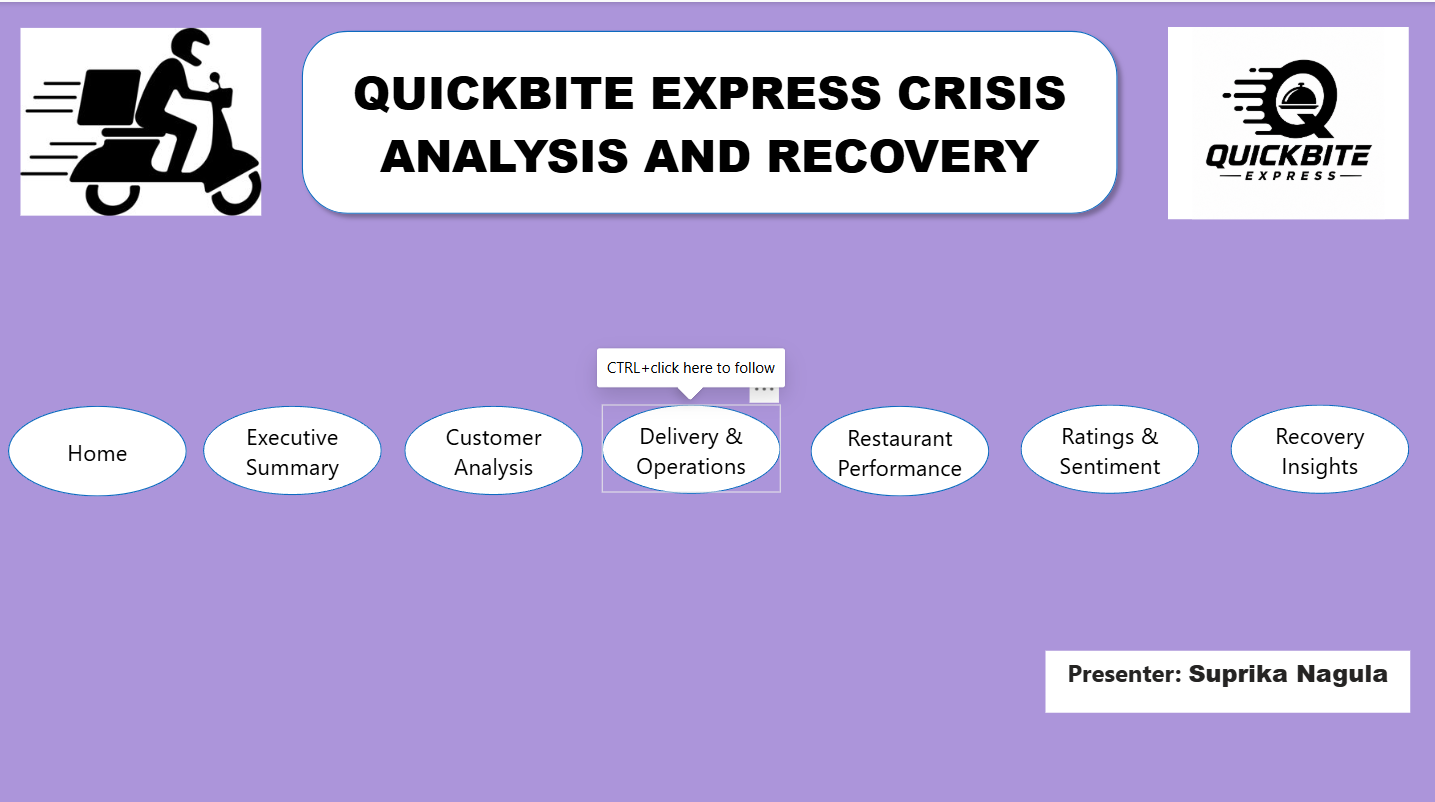

The dashboard page shown, as its layout file describes it:
{"tool":"powerbi","page":{"name":"Home","canvas":[1280,720],"ordinal":0},"visuals":[{"type":"shape","box":[261.8,16.9,744.4,181],"z":0},{"type":"shape","box":[8.4,359.5,159.3,80.8],"z":1000},{"type":"shape","box":[182.2,359.5,159.3,79.6],"z":2000},{"type":"shape","box":[361.9,359.5,159.3,79.6],"z":3000},{"type":"shape","box":[538.1,358.3,159.3,79.6],"z":4000},{"type":"shape","box":[723.9,359.5,159.3,80.8],"z":5000},{"type":"shape","box":[910.9,358.3,159.3,79.6],"z":6000},{"type":"shape","box":[1097.9,358.3,159.3,79.6],"z":7000},{"type":"image","box":[1042.4,21.7,214.7,171.3],"z":8000},{"type":"image","box":[20.5,21.7,214.7,168.9],"z":9000},{"type":"textbox","box":[932.6,577.9,324.5,55.5],"z":10000}]}

Visuals, with their boxes in screenshot pixels (x1, y1, x2, y2), scaled from the page's 1280x720 canvas onto the 1435x802 screenshot:
shape: 294 19 1128 220
shape: 9 400 188 490
shape: 204 400 383 489
shape: 406 400 584 489
shape: 603 399 782 488
shape: 812 400 990 490
shape: 1021 399 1200 488
shape: 1231 399 1409 488
image: 1169 24 1409 215
image: 23 24 264 212
textbox: 1046 644 1409 706
